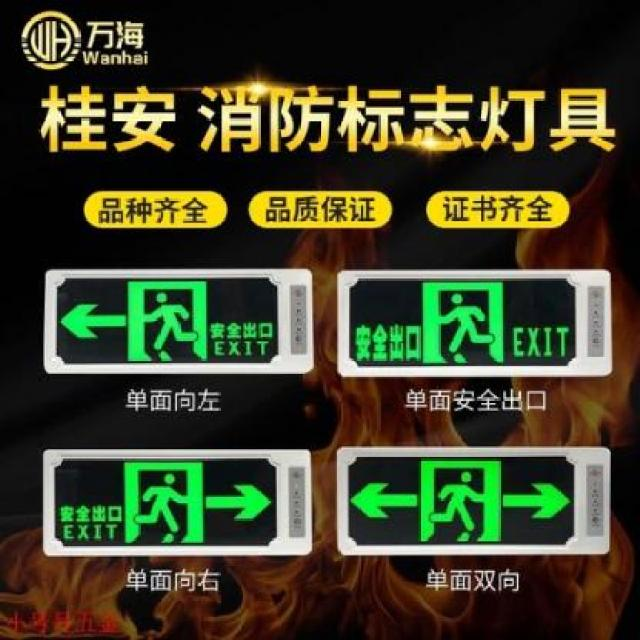exit_sign: (336, 257, 616, 377), (31, 257, 315, 375), (331, 443, 617, 559), (34, 449, 317, 558)
